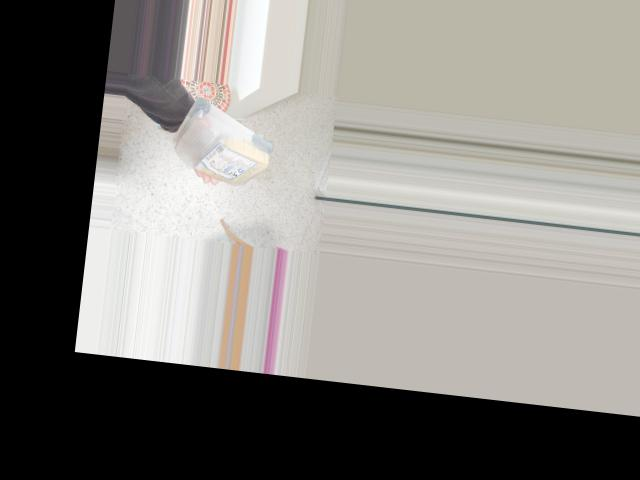cheese: (153, 95, 282, 191)
